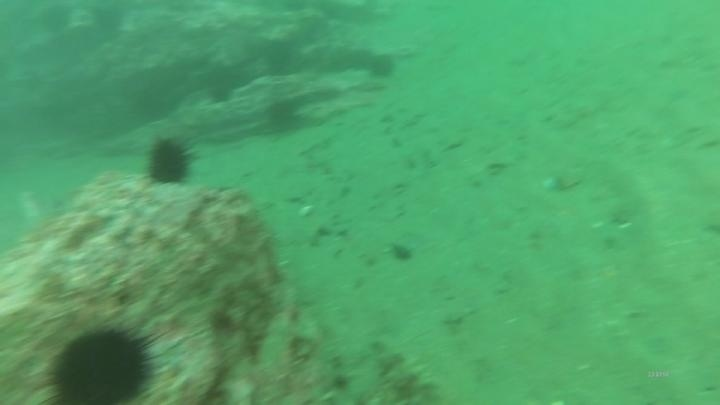echinus: (43, 320, 162, 405), (142, 134, 198, 189), (261, 96, 305, 136), (364, 51, 399, 83)
holothurian: (369, 335, 442, 405)
